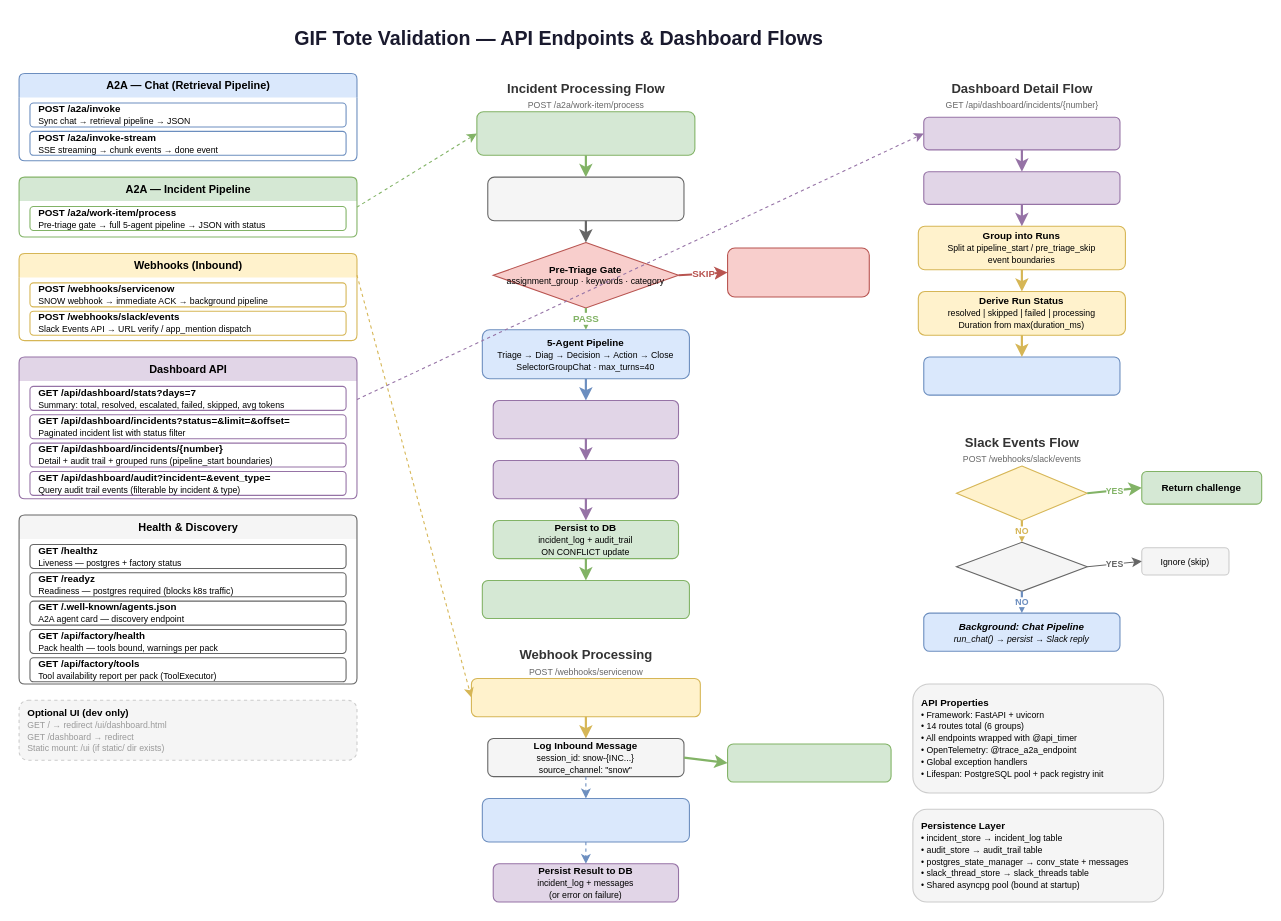
Image size: 1281x921. Some labels were removed from this diagram. Here are the shapes that lost their labels. From the top down, the centre of each, then its label:
[585,133]: Receive Request {incident_number: "INC..."} Validate INC prefix
[1021,133]: Fetch Incident Row incident_store.get_incident()
[585,198]: Save Inbound Message source_type: AUTONOMOUS PostgreSQL conversation_state
[1021,187]: Fetch Audit Events audit_store.get_events_for_incident()
[797,272]: Return: skipped skip_reason: "..." Zero LLM cost
[1021,375]: Return Response {incident, runs[], audit_trail[]}
[585,419]: Extract Evidence _derive_tool_status() · two-pass extraction
[585,479]: Pipeline Health summarise_pipeline_health() success | partial | failed
[1021,492]: URL Verification?
[1021,566]: Bot message?
[585,599]: Return: processed response + session_id + time_taken
[585,697]: Receive SNOW Payload {number, short_description, sys_id, caller_id}
[808,762]: Return: {status: accepted} Immediate — non-blocking
[585,819]: asyncio.create_task() Background: pre-triage + pipeline _process_snow_incident()
